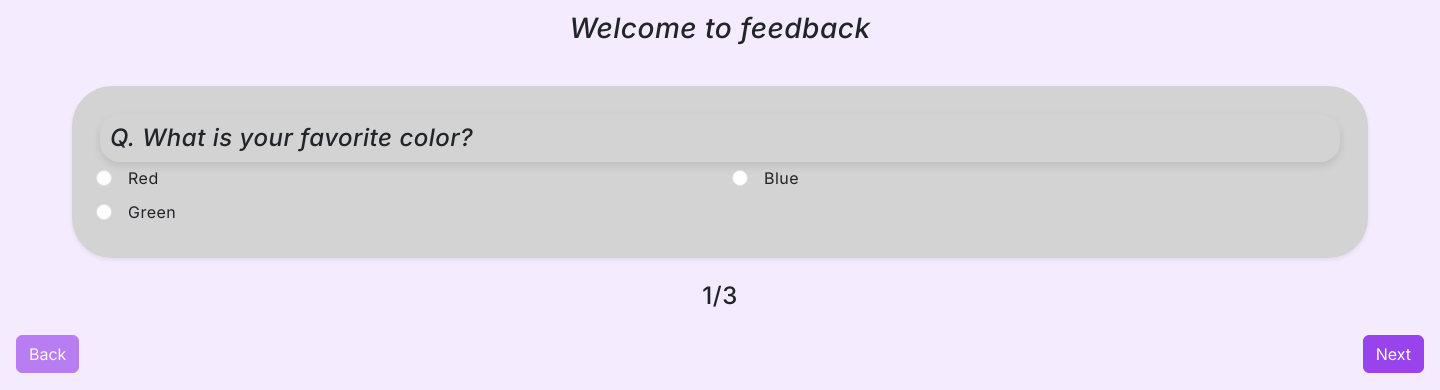
Testing Feedback component › should go back to the previous question when "Back" is clicked
Check: the heading "Q. What is your favorite color?" is shown, box 100,114 -> 1340,162
# Select an answer for the first question
Click the radio button labelled "Blue": (740, 178) 732,170 -> 748,186
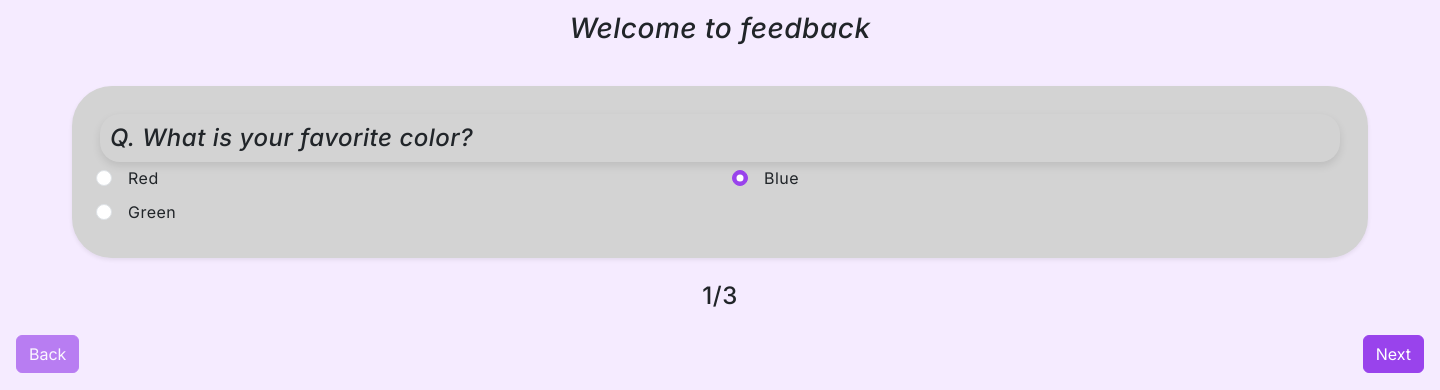
# Go to the next question
Click the button "Next": (1393, 354) 1363,335 -> 1424,373
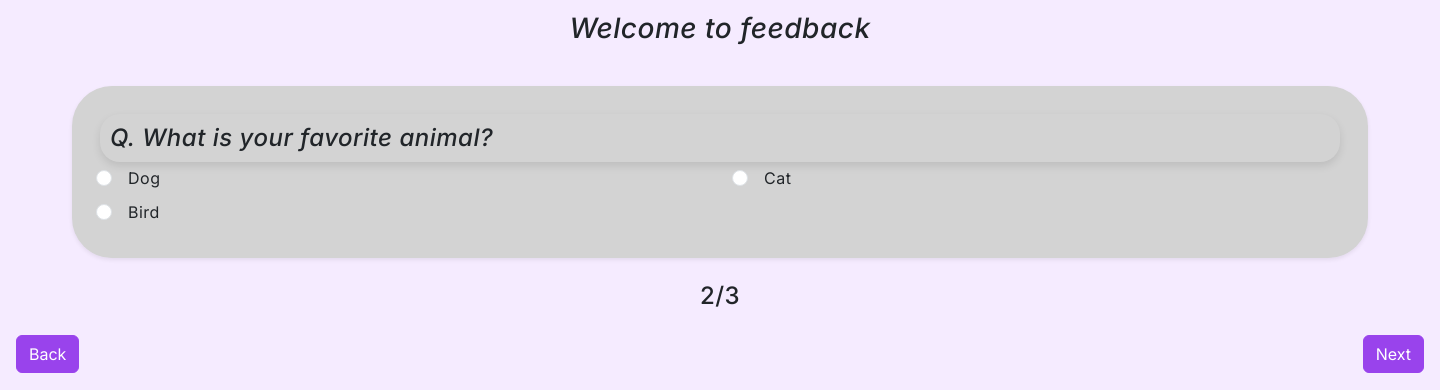
Check: the heading "Q. What is your favorite animal?" is shown, box 100,114 -> 1340,162
# Select an answer for the second question
Click the radio button labelled "Cat": (740, 178) 732,170 -> 748,186
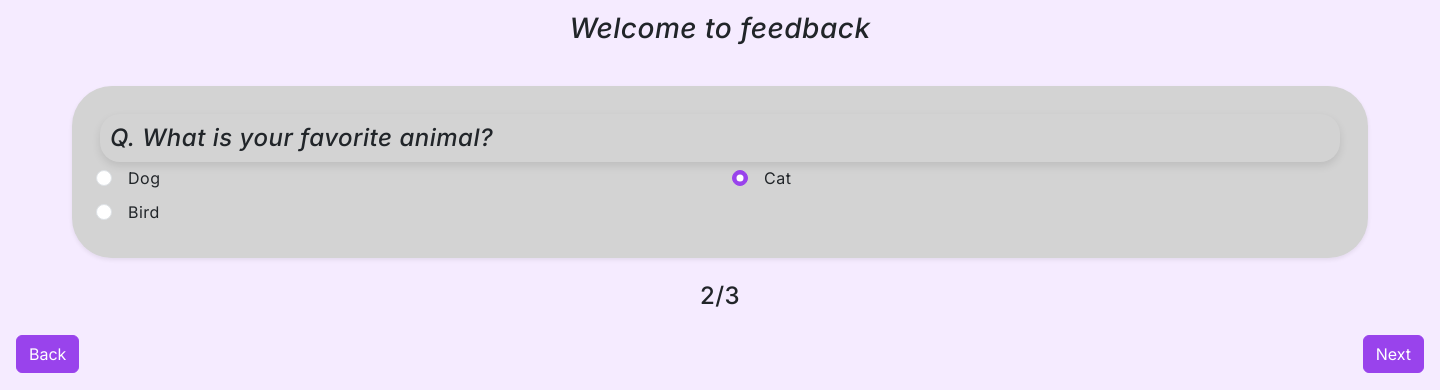
# Go to the previous question using a more specific query
Click the button "Back": (48, 354) 16,335 -> 79,373
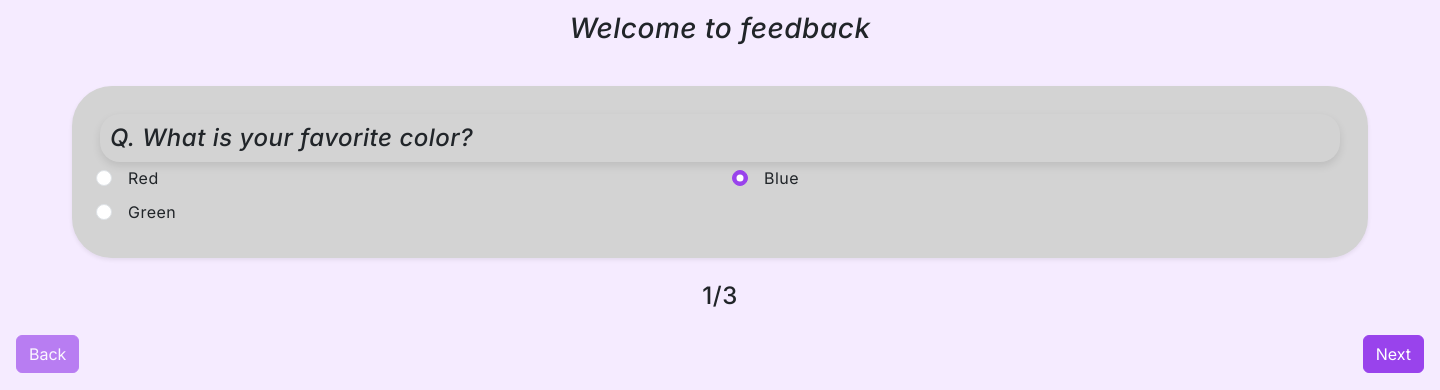
Check: the radio button labelled "Blue" is checked, box 732,170 -> 748,186
Check: the heading "Q. What is your favorite color?" is shown, box 100,114 -> 1340,162
Check: the text "Red" is shown, box 128,168 -> 159,188
